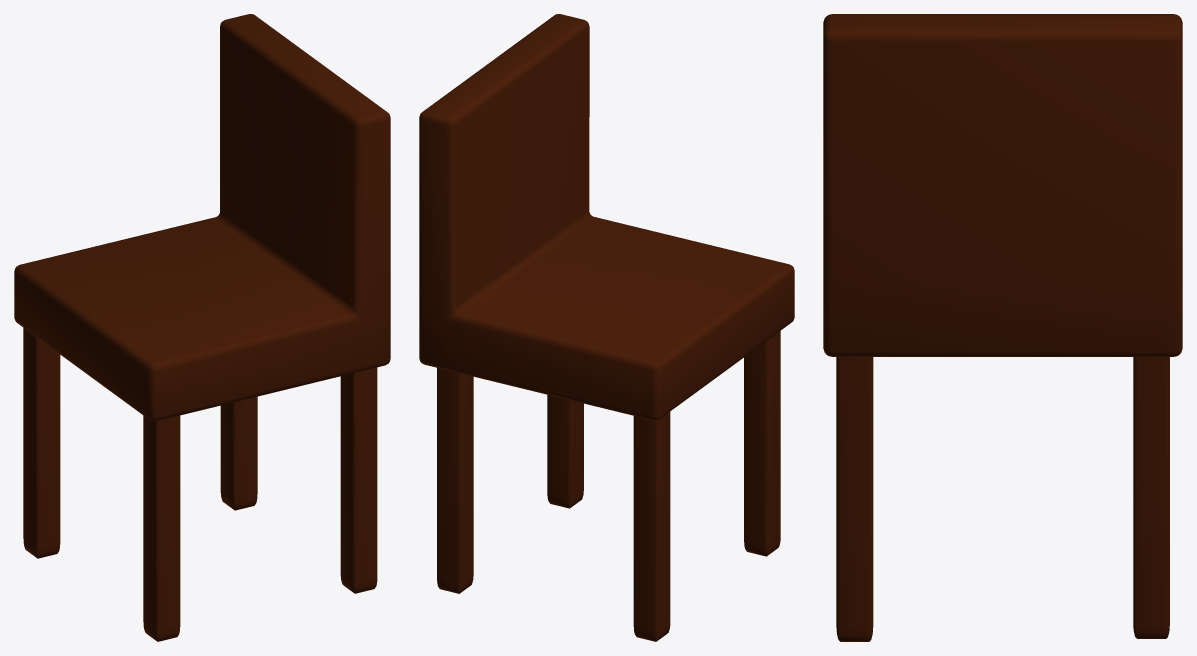
Rendered from Silla.fbx.
3 views of the same model, side by side, from view 1: azimuth 30°, elevation 25°; view 2: azimuth 150°, elevation 25°; view 3: azimuth 270°, elevation 25° (orthographic). The views are drawn at different scales.
Visible parts, largest first — view 1: Silla; view 2: Silla; view 3: Silla.
Boxes of the visible parts, x1,y1,x2,y2 form: Silla: (14,14,390,641); Silla: (419,14,794,641); Silla: (823,14,1182,641).
Size of the model in its own units: 200 by 378 by 200.
